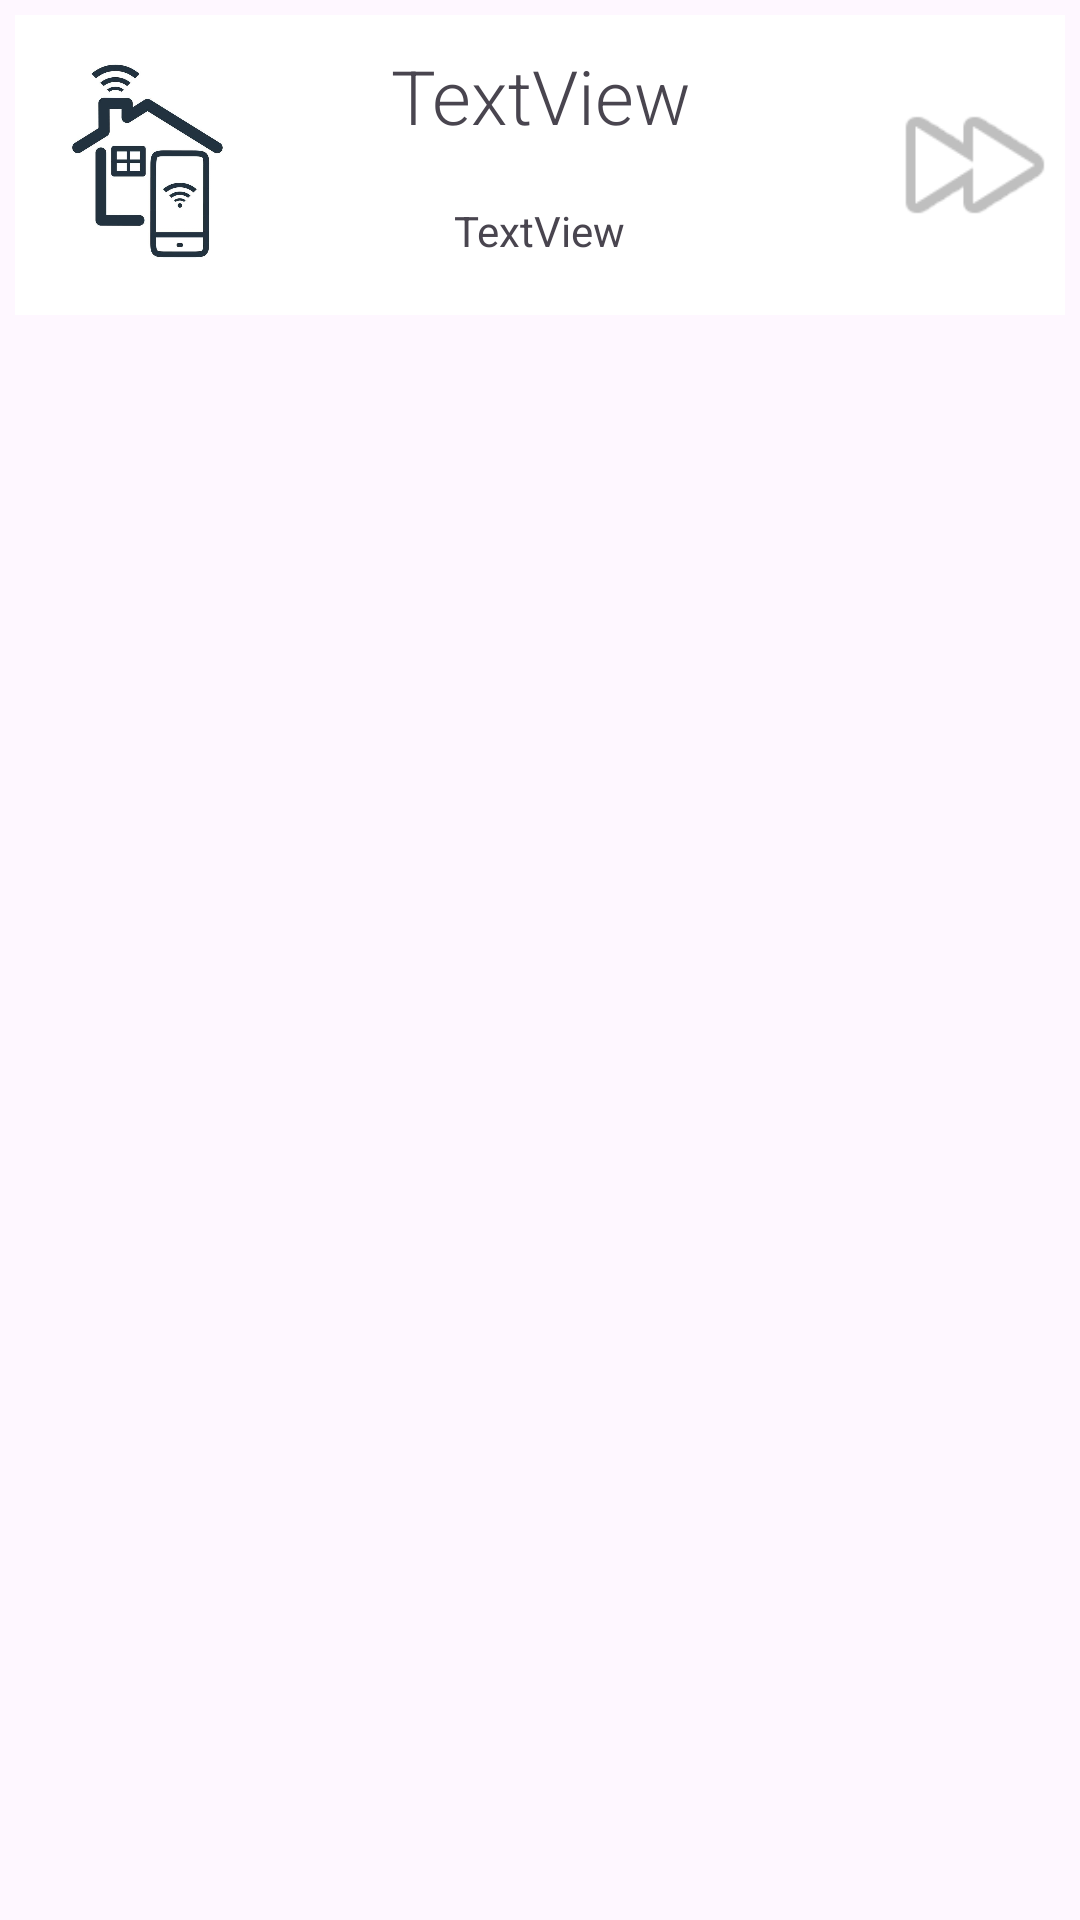

Icon click points for this 1080px×1920px phone screenshot, format (x,y):
houseconnect: (147,161)
